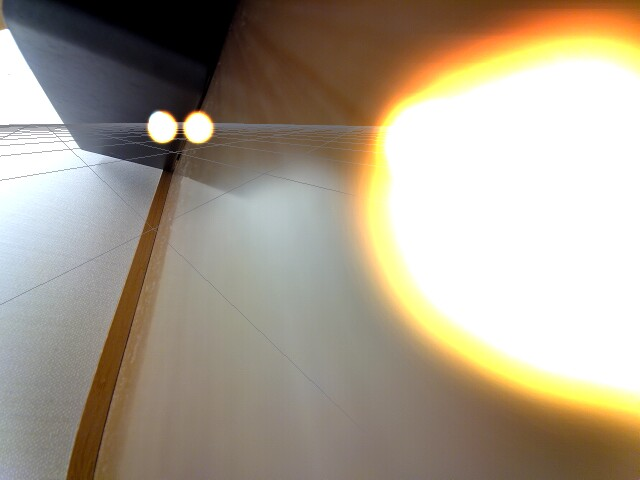firebig: (348, 42, 640, 433)
